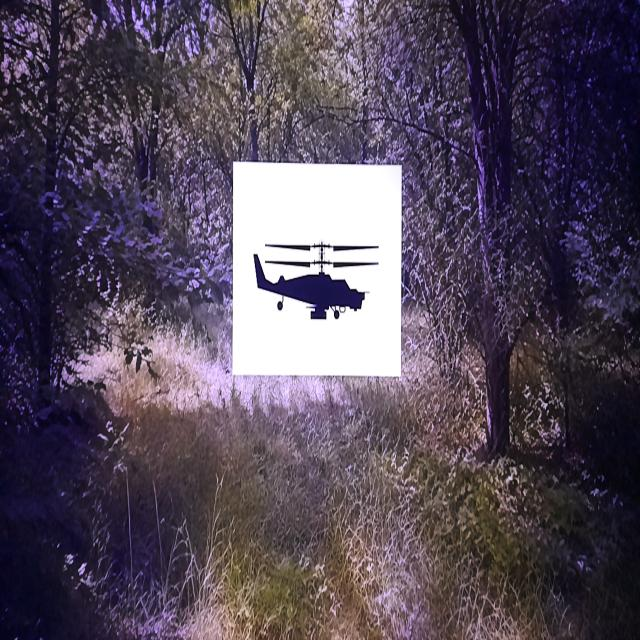Ka-52 Enemy: (254, 242, 377, 319)
